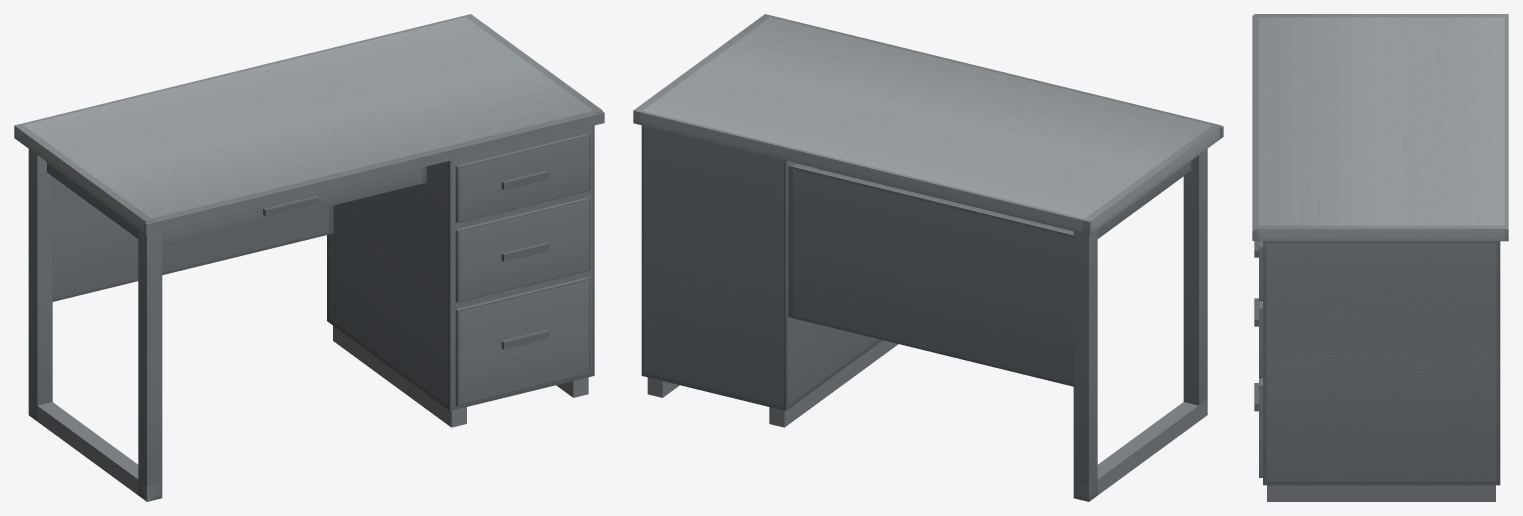
The model's file is desk_steel.glb.
3 renders of one model, left to right at view 1: azimuth 30°, elevation 25°; view 2: azimuth 150°, elevation 25°; view 3: azimuth 270°, elevation 25°, orthographic. The views are drawn at different scales.
Parts seen in each view (by area): view 1: desk_steel; view 2: desk_steel; view 3: desk_steel.
Boxes of the visible parts, x1=… form: desk_steel: x1=14, y1=14, x2=604, y2=501; desk_steel: x1=633, y1=14, x2=1223, y2=501; desk_steel: x1=1252, y1=14, x2=1508, y2=501.
Bounding box in the file's own units: 1.2 × 0.72 × 0.605.
Materials: 4 (2 with a texture image).
